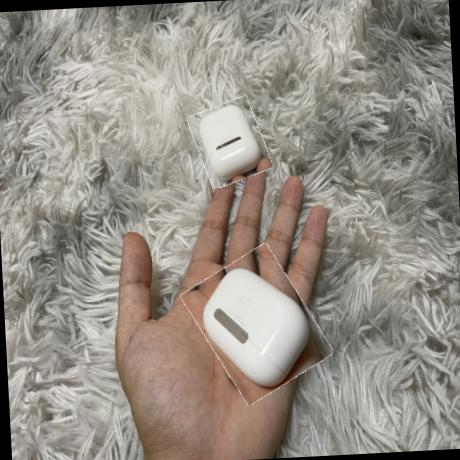airpod2: (191, 97, 269, 186)
airpod3: (189, 248, 324, 399)
